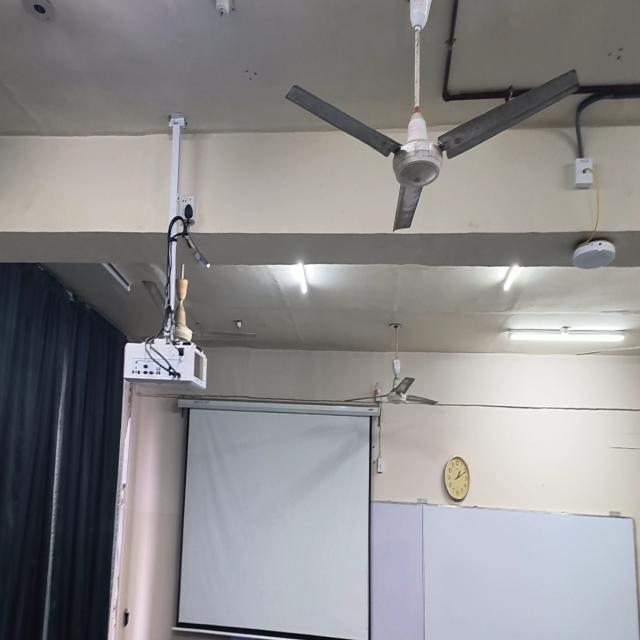Light: (508, 327, 624, 342), (291, 263, 307, 295), (503, 264, 521, 291)
Projector: (123, 338, 206, 389)
